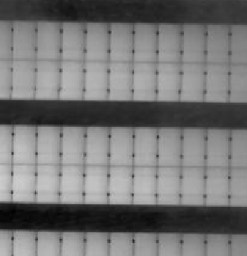solar: (10, 19, 39, 61), (35, 19, 64, 61), (58, 19, 87, 61), (82, 19, 111, 61), (107, 20, 136, 62), (131, 21, 160, 63), (155, 21, 184, 63), (179, 21, 208, 63), (203, 22, 232, 64), (9, 58, 38, 100), (33, 58, 62, 100), (58, 58, 87, 100), (81, 59, 110, 101), (106, 59, 135, 101), (130, 59, 159, 101), (154, 59, 183, 101), (179, 59, 208, 101), (203, 60, 232, 102), (10, 123, 39, 165), (34, 125, 63, 167), (58, 125, 87, 167), (83, 125, 112, 167), (106, 125, 135, 167), (131, 125, 160, 167), (155, 126, 184, 168), (179, 126, 208, 168), (204, 127, 233, 169), (9, 162, 38, 204), (33, 162, 62, 204), (57, 162, 86, 204), (82, 162, 111, 204), (106, 162, 135, 204), (131, 162, 160, 204), (155, 163, 184, 205), (179, 164, 208, 206), (203, 164, 232, 206)
